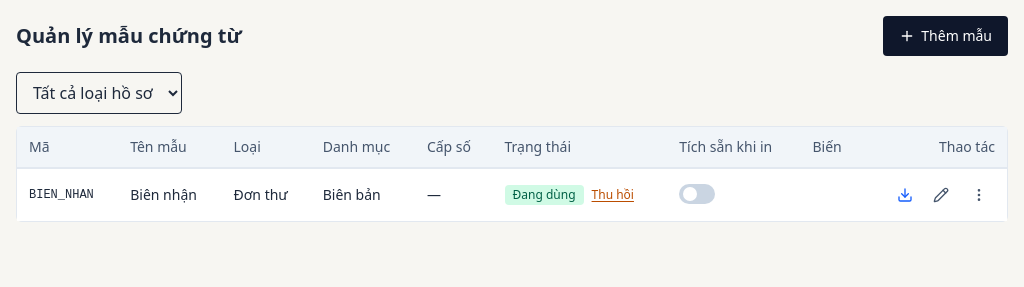
Test: DocumentTemplatesPage › actions: Tải file + Sửa inline + kebab; mở kebab → Xoá
The width and height of the screenshot is (1024, 287).
expect the button with test id "btn-download-d1" is shown: met, box 891,181 -> 919,209
expect the button with test id "btn-edit-d1" is shown: met, box 925,179 -> 957,211
What coordinates should you click on to do the following:
click the button with test id "btn-more-d1"
I would click on:
 (979, 195)
Its box is 963,179 -> 995,211.
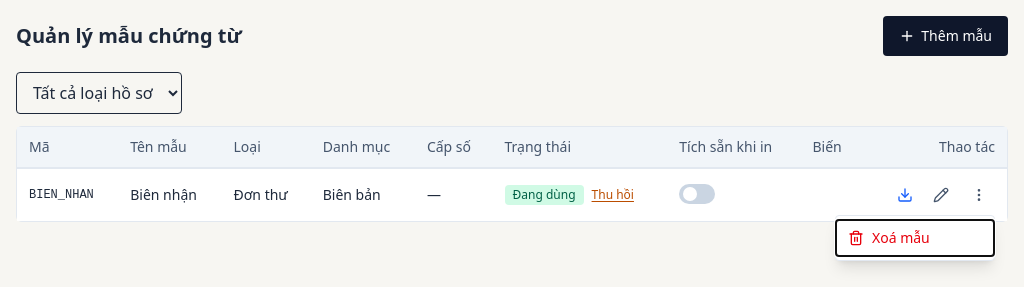
expect the menu item with test id "btn-delete-d1" is shown: met, box 836,220 -> 994,256
